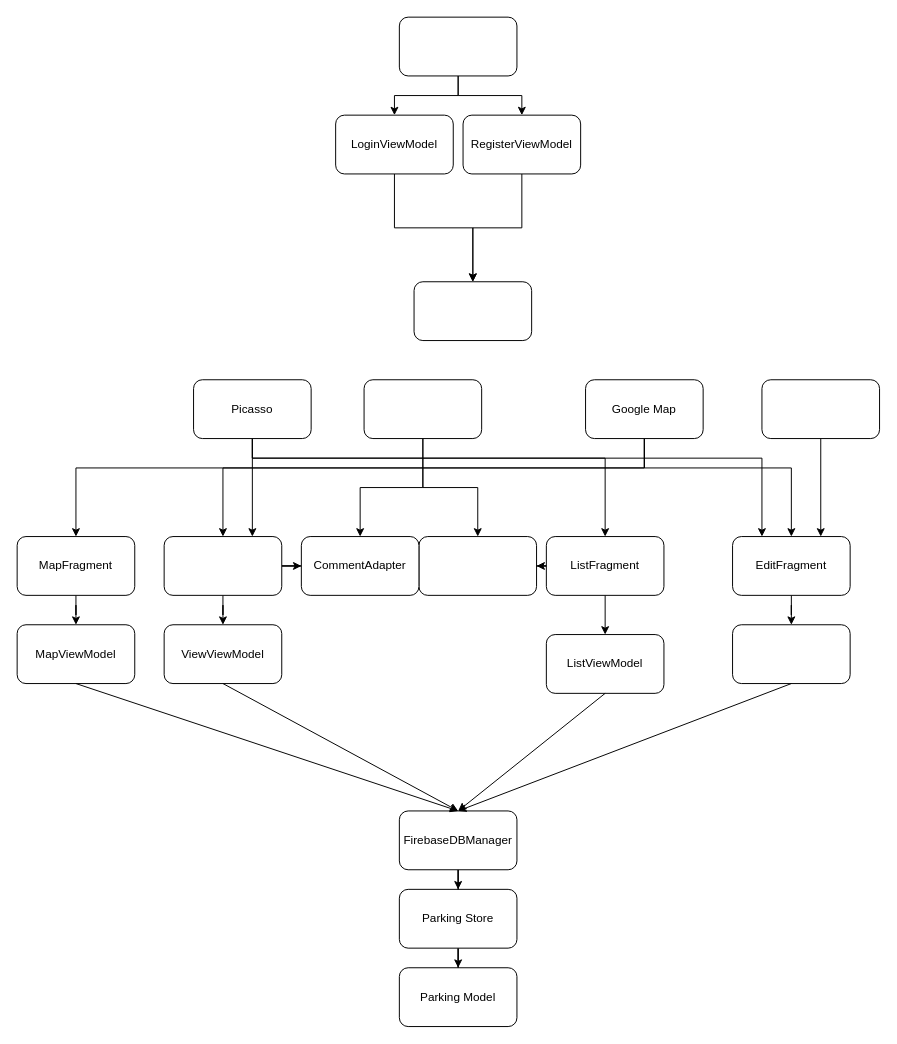
Image size: 897x1044. Some labels were removed from this diagram. Here are the shapes that lost their labels. From the top down, the centre of each, then its label:
At (457,46): "Login".
At (472,311): "FirebaseAuthManager".
At (422,409): "Recycler view".
At (820,409): "Location Service".
At (222,565): "ViewFragment".
At (477,565): "ParkingAdapter".
At (791,654): "EditViewModel".
